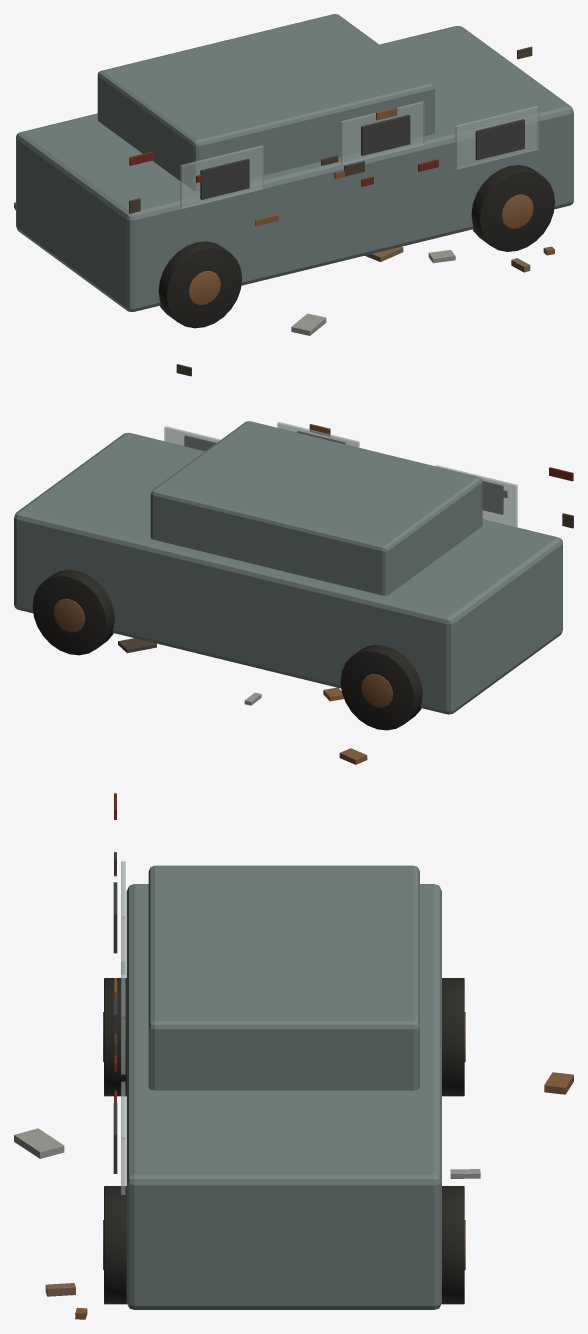
Rendered from dz_vehicle_sedan_abandoned_premium.glb.
3 renders of one model, top to bottom at view 1: azimuth 30°, elevation 25°; view 2: azimuth 150°, elevation 25°; view 3: azimuth 270°, elevation 25°, orthographic. The views are drawn at different scales.
Visible parts, largest first — view 1: vehicle_lower_body_dented, vehicle_cabin_crushed, flat_muddy_tire_-1.365_-0.91, flat_muddy_tire_1.365_-0.91, broken_window_1.25, broken_window_-1.15, broken_window_0.25, window_hole_shadow_1.25, window_hole_shadow_0.25, window_hole_shadow_-1.15, rusted_wheel_hub_1.365_-0.91, rusted_wheel_hub_-1.365_-0.91 (+1 smaller); view 2: vehicle_lower_body_dented, vehicle_cabin_crushed, flat_muddy_tire_-1.365_0.91, flat_muddy_tire_1.365_0.91, broken_window_-1.15, rusted_wheel_hub_1.365_0.91, rusted_wheel_hub_-1.365_0.91, broken_window_1.25, window_hole_shadow_-1.15, broken_window_0.25; view 3: vehicle_lower_body_dented, vehicle_cabin_crushed, flat_muddy_tire_1.365_0.91, flat_muddy_tire_1.365_-0.91, flat_muddy_tire_-1.365_0.91, flat_muddy_tire_-1.365_-0.91, vehicle_debris_03.
Boxes of the visible parts, left/top/right/bottom form: vehicle_lower_body_dented: left=16, top=26, right=573, bottom=311; vehicle_cabin_crushed: left=97, top=14, right=434, bottom=190; flat_muddy_tire_-1.365_-0.91: left=158, top=241, right=242, bottom=328; flat_muddy_tire_1.365_-0.91: left=471, top=165, right=554, bottom=251; broken_window_1.25: left=455, top=105, right=539, bottom=169; broken_window_-1.15: left=180, top=145, right=263, bottom=208; broken_window_0.25: left=340, top=101, right=424, bottom=165; window_hole_shadow_1.25: left=475, top=119, right=524, bottom=160; window_hole_shadow_0.25: left=361, top=114, right=410, bottom=155; window_hole_shadow_-1.15: left=200, top=158, right=249, bottom=199; rusted_wheel_hub_1.365_-0.91: left=501, top=194, right=533, bottom=228; rusted_wheel_hub_-1.365_-0.91: left=188, top=271, right=220, bottom=304; vehicle_lower_body_dented: left=14, top=432, right=562, bottom=714; vehicle_cabin_crushed: left=150, top=421, right=482, bottom=595; flat_muddy_tire_-1.365_0.91: left=340, top=645, right=422, bottom=730; flat_muddy_tire_1.365_0.91: left=32, top=569, right=114, bottom=655; broken_window_-1.15: left=436, top=465, right=517, bottom=526; rusted_wheel_hub_1.365_0.91: left=53, top=599, right=85, bottom=632; rusted_wheel_hub_-1.365_0.91: left=361, top=674, right=392, bottom=707; broken_window_1.25: left=164, top=426, right=220, bottom=450; window_hole_shadow_-1.15: left=483, top=481, right=503, bottom=514; broken_window_0.25: left=277, top=422, right=359, bottom=447; vehicle_lower_body_dented: left=126, top=884, right=441, bottom=1309; vehicle_cabin_crushed: left=148, top=865, right=419, bottom=1090; flat_muddy_tire_1.365_0.91: left=441, top=1186, right=464, bottom=1304; flat_muddy_tire_1.365_-0.91: left=104, top=1186, right=126, bottom=1304; flat_muddy_tire_-1.365_0.91: left=442, top=978, right=464, bottom=1096; flat_muddy_tire_-1.365_-0.91: left=104, top=978, right=126, bottom=1096; vehicle_debris_03: left=14, top=1128, right=64, bottom=1158.
Size of the model in its own units: 3.94 by 1.66 by 3.11.
